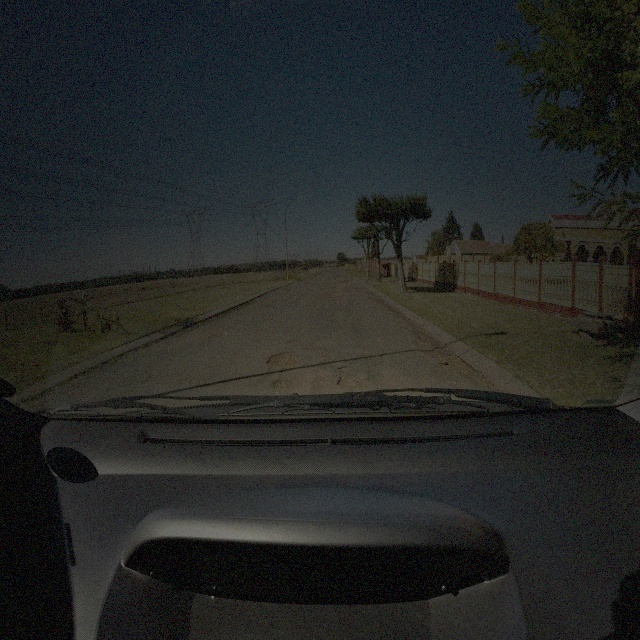pothole: (442, 353, 473, 378), (267, 350, 300, 370), (337, 373, 359, 388), (274, 377, 290, 393), (206, 329, 228, 340), (285, 338, 304, 346), (338, 364, 353, 373)
